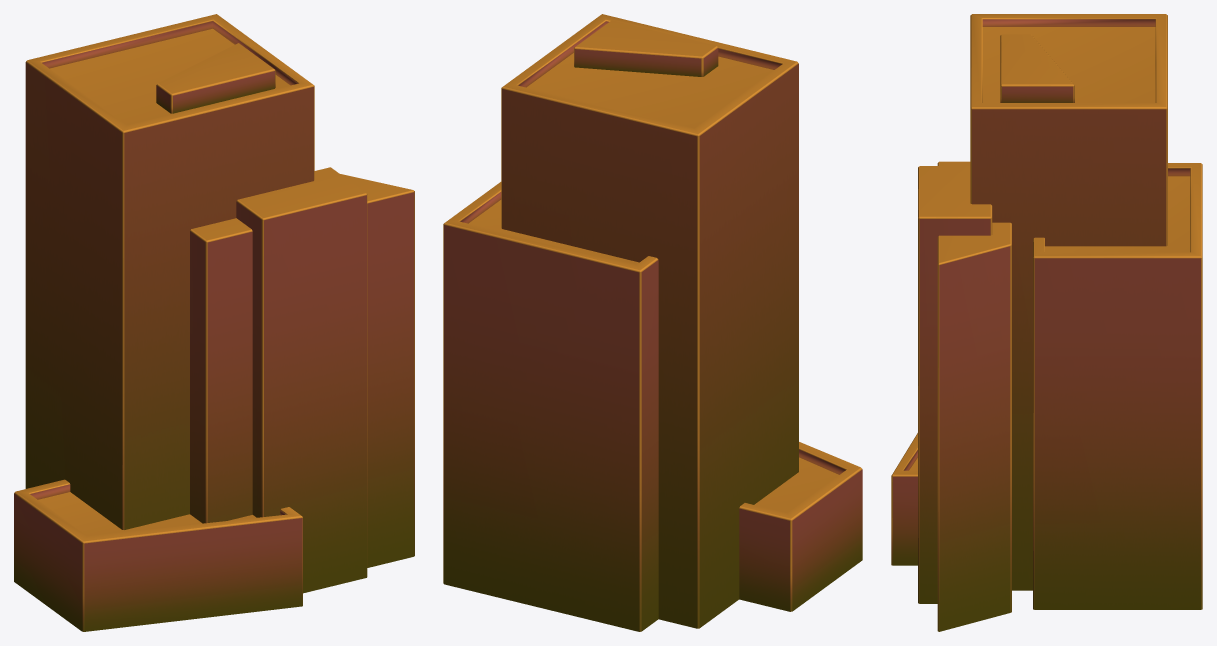
Rendered from prop_BuildingMedium04.fbx.
3 views of the same model, side by side, from view 1: azimuth 30°, elevation 25°; view 2: azimuth 150°, elevation 25°; view 3: azimuth 270°, elevation 25° (orthographic). The views are drawn at different scales.
Parts seen in each view (by area): view 1: prop_BuildingMedium04; view 2: prop_BuildingMedium04; view 3: prop_BuildingMedium04.
Boxes of the visible parts, left/top/right/bottom form: prop_BuildingMedium04: left=14, top=14, right=414, bottom=631; prop_BuildingMedium04: left=443, top=14, right=862, bottom=631; prop_BuildingMedium04: left=891, top=14, right=1202, bottom=631.
Size of the model in its own units: 1631 by 2336 by 1335.
